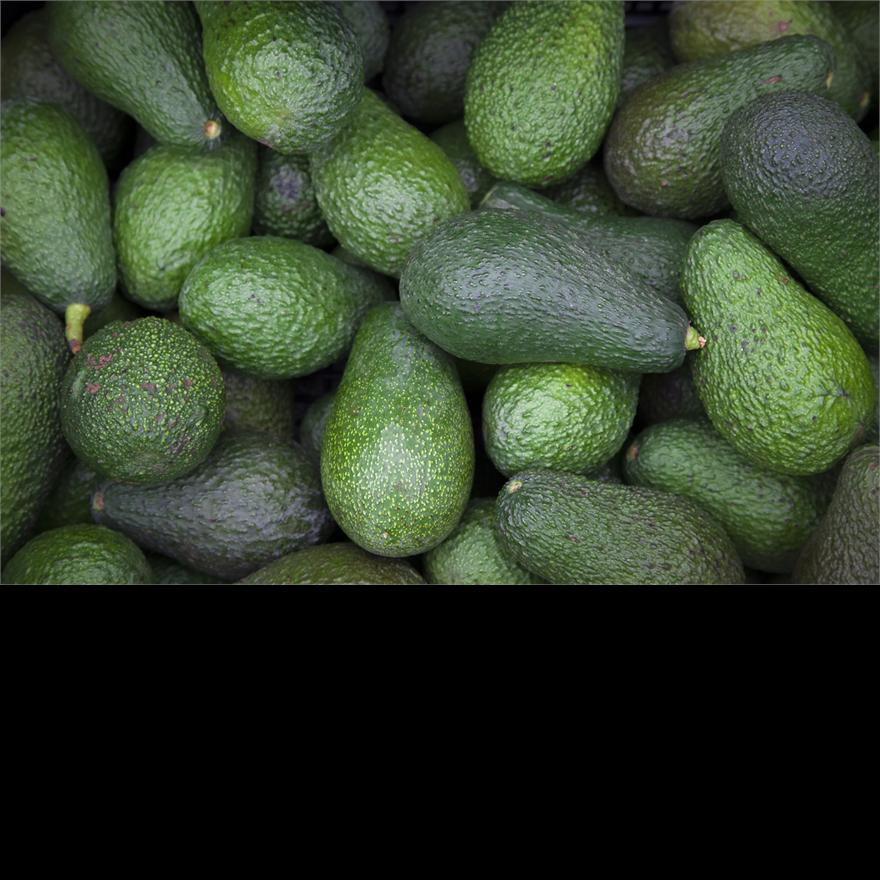unripe: (399, 209, 707, 375), (681, 219, 877, 478), (719, 91, 880, 349), (603, 35, 829, 217), (320, 301, 475, 558), (90, 436, 341, 583), (622, 415, 833, 579), (307, 84, 472, 278), (177, 236, 393, 379), (463, 1, 625, 189), (493, 467, 745, 585), (57, 317, 227, 486), (44, 1, 230, 153), (114, 122, 259, 312), (191, 1, 365, 155), (1, 97, 118, 316), (669, 1, 872, 123), (481, 360, 643, 481), (1, 293, 70, 556)
